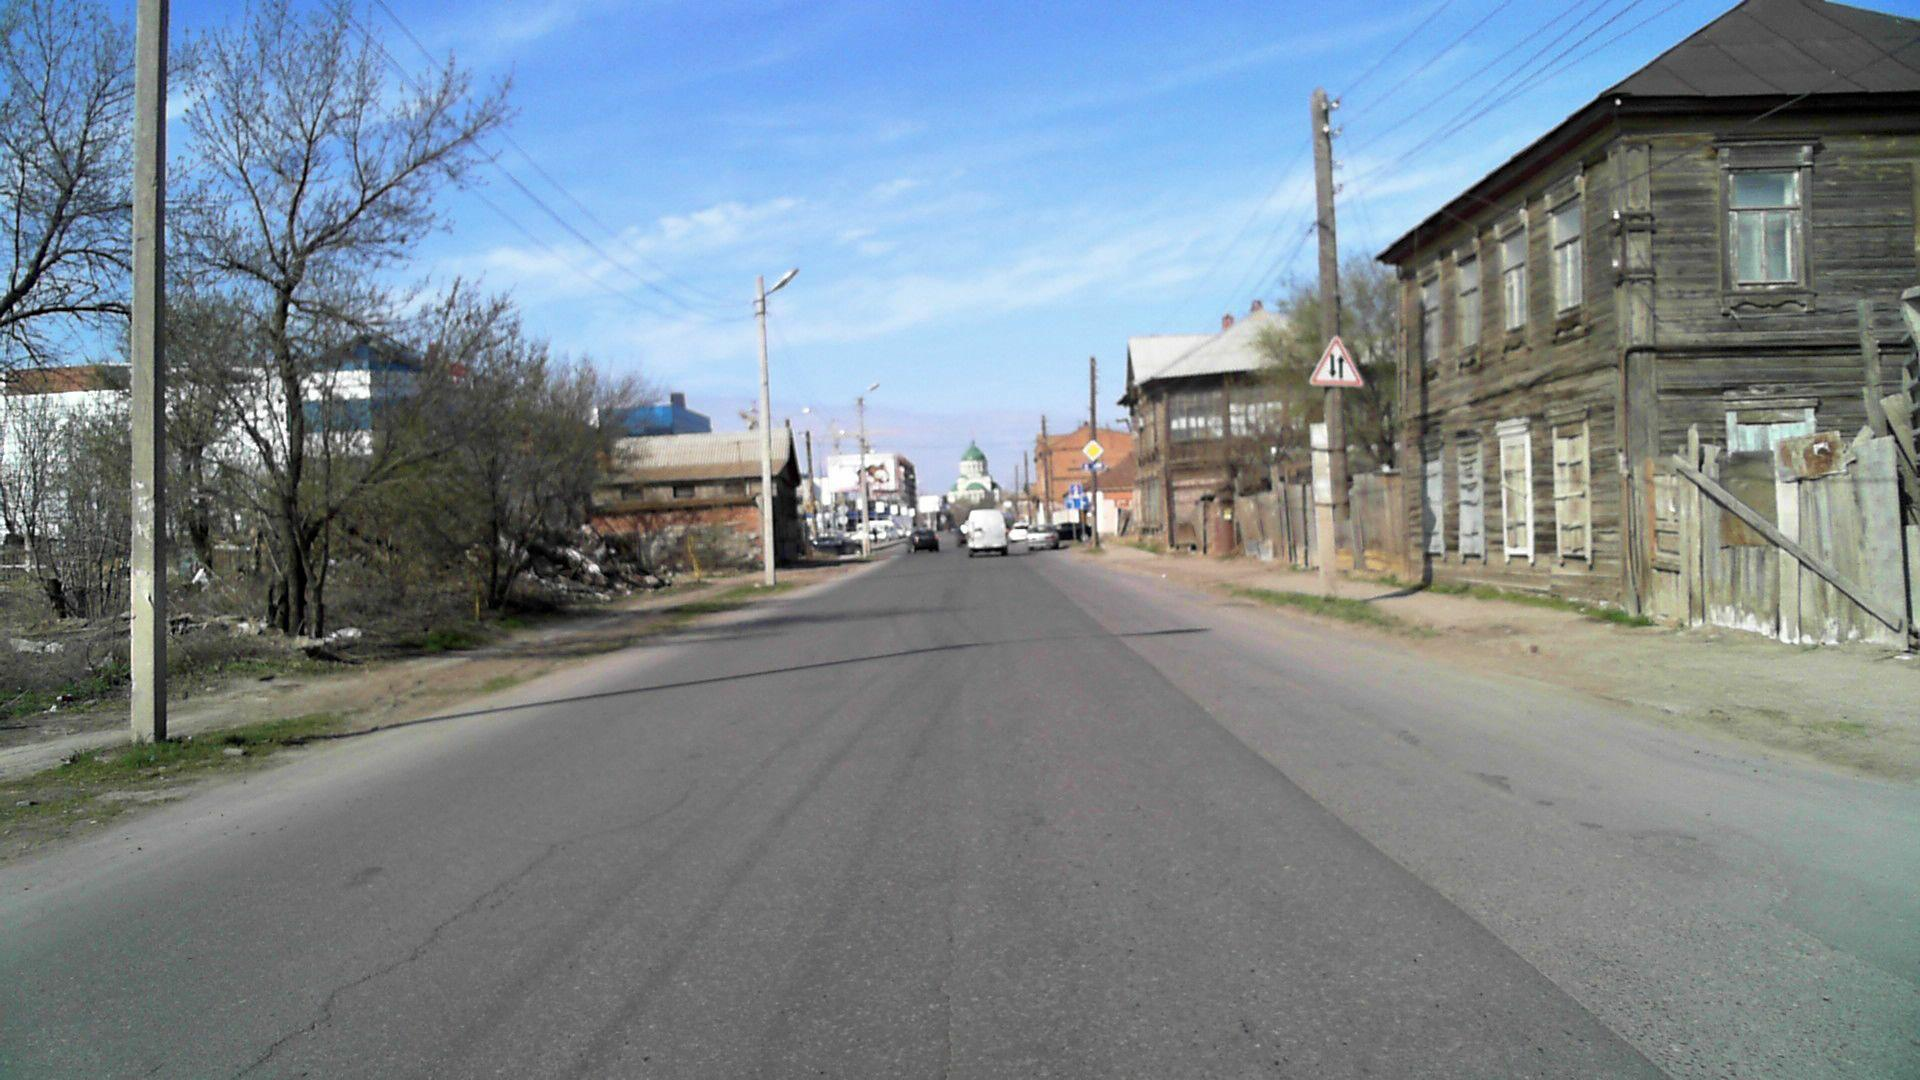1_21: (1309, 334, 1364, 386)
2_1: (1081, 439, 1105, 462)
5_15_1: (1064, 498, 1089, 510)
5_6: (1069, 484, 1084, 496)
6_15_1: (1081, 462, 1105, 471)
